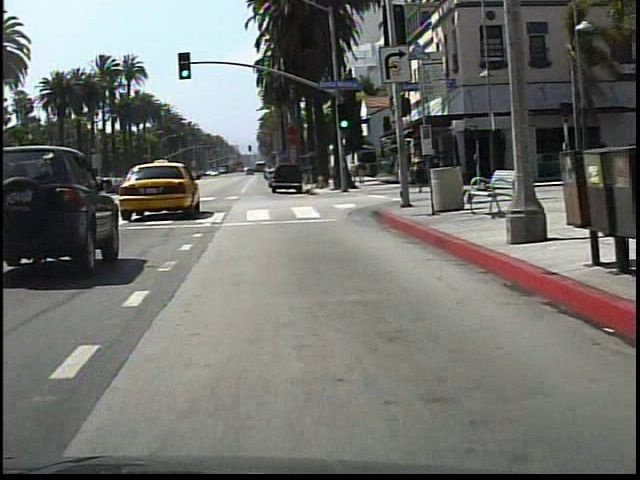person: (400, 147, 417, 196), (517, 142, 533, 183)
